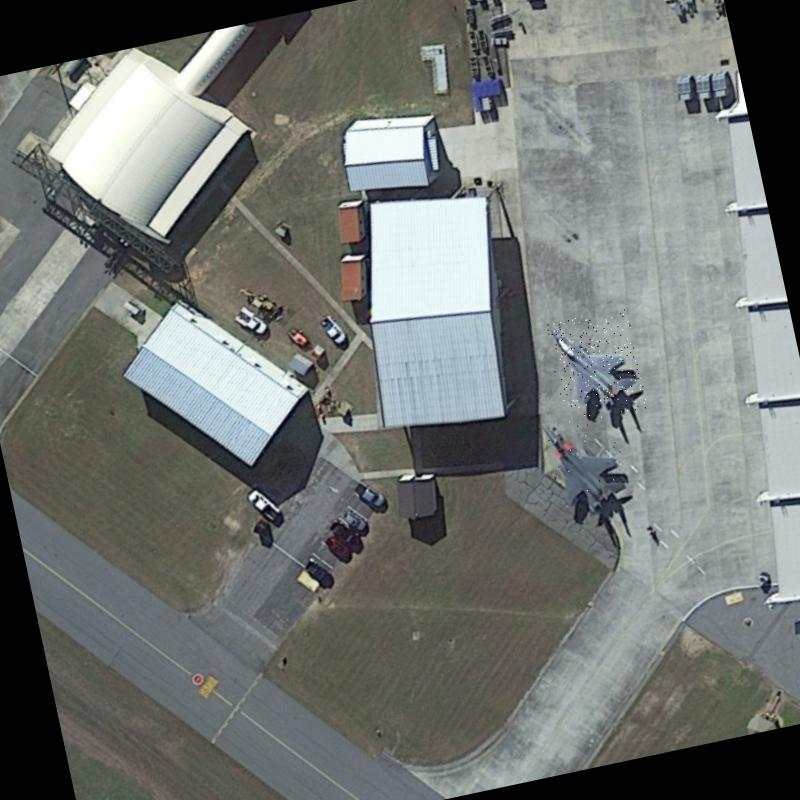A13: (544, 307, 648, 425), (536, 404, 636, 526)
